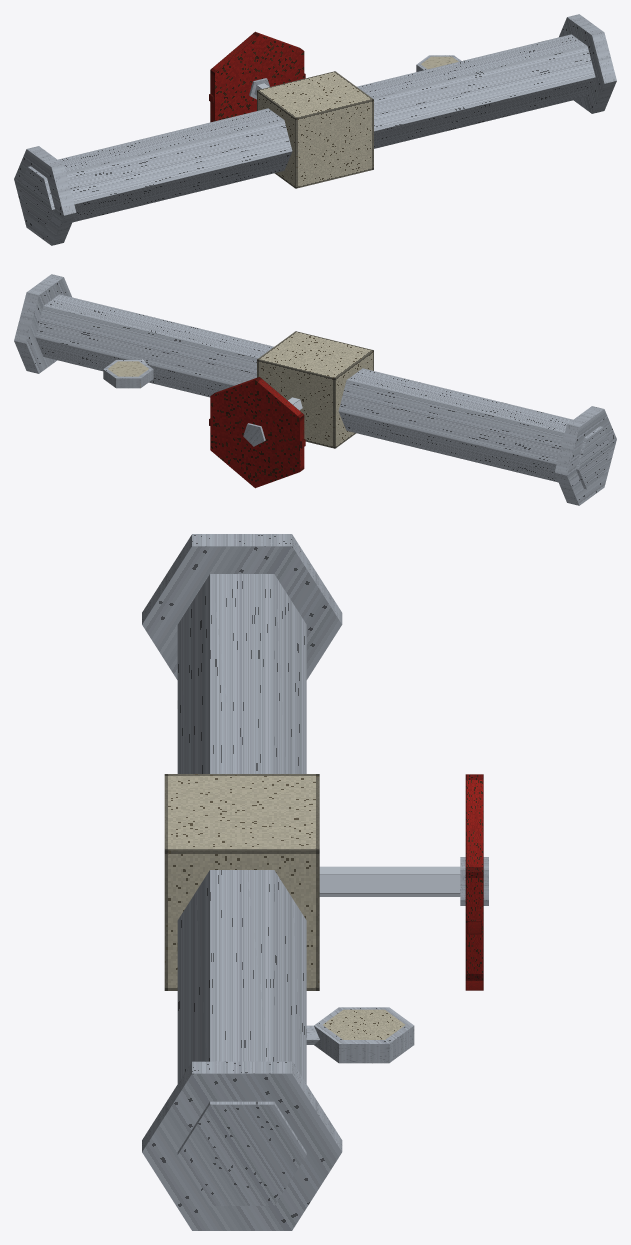
File: pipes_habitation_worn.glb
3 views of the same model, one above another, from view 1: azimuth 30°, elevation 25°; view 2: azimuth 150°, elevation 25°; view 3: azimuth 270°, elevation 25° (orthographic). The views are drawn at different scales.
Parts seen in each view (by area): view 1: pipes_habitation_worn; view 2: pipes_habitation_worn; view 3: pipes_habitation_worn.
Part boxes in pixels (<box>): pipes_habitation_worn: <box>14,14,616,245</box>; pipes_habitation_worn: <box>14,274,616,505</box>; pipes_habitation_worn: <box>142,534,488,1230</box>.
Size of the model in its own units: 1.8 by 0.333 by 0.4835.
Materials: 6 (6 with a texture image).
